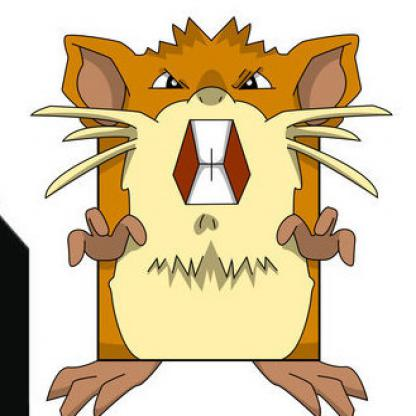Raticate: (28, 10, 377, 405)
